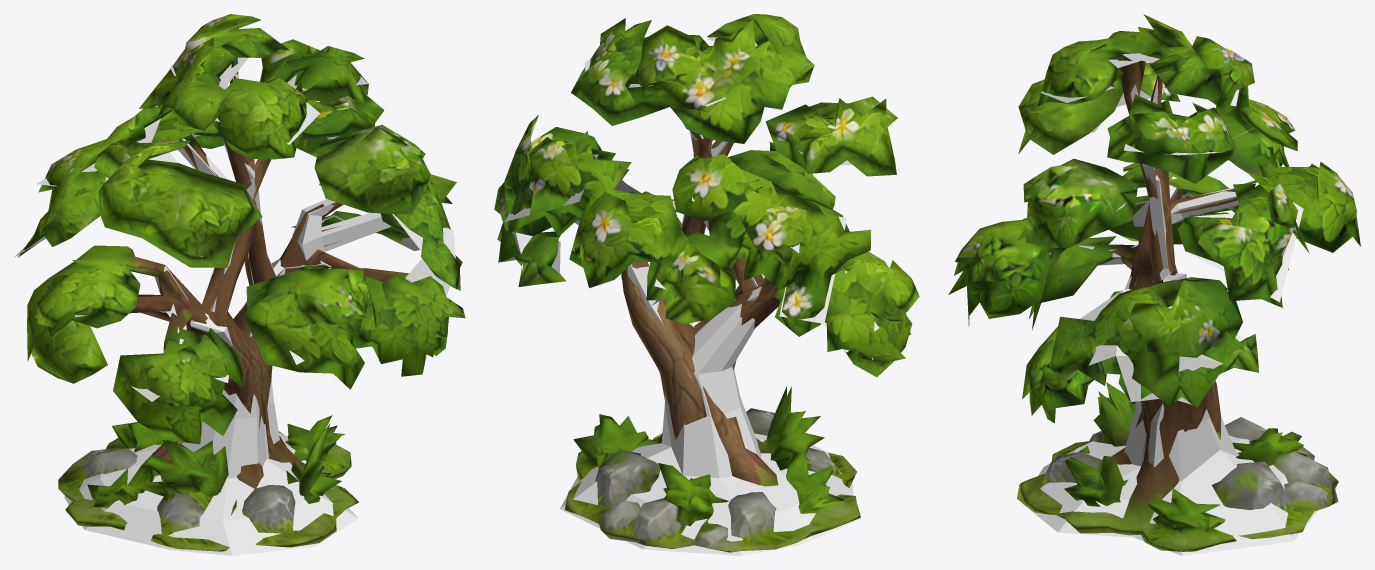
File: blossom_tree_01.fbx
3 views of the same model, side by side, from view 1: azimuth 30°, elevation 25°; view 2: azimuth 150°, elevation 25°; view 3: azimuth 270°, elevation 25° (orthographic).
Visible parts, largest first — view 1: blossom_tree_01, col_mesh; view 2: blossom_tree_01, col_mesh; view 3: blossom_tree_01, col_mesh.
Part boxes in pixels (x1,y1,x2,y2): blossom_tree_01: (18,14,465,551); col_mesh: (15,50,455,555); blossom_tree_01: (494,14,919,552); col_mesh: (501,37,918,555); blossom_tree_01: (948,14,1360,551); col_mesh: (1021,53,1338,555).
Bounding box in the file's own units: 17.31 × 18.58 × 14.83.
